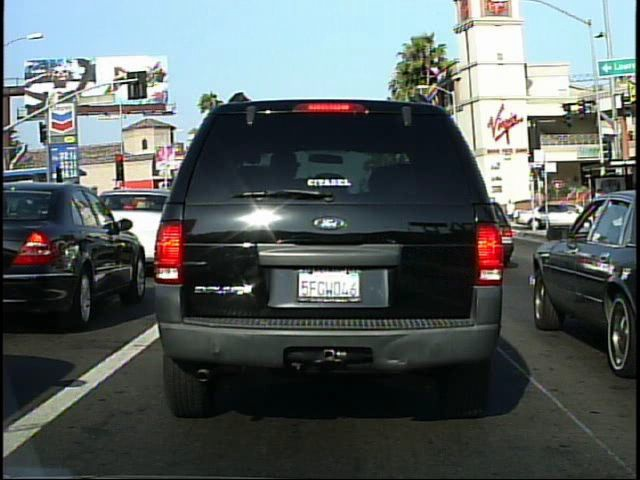person: (591, 184, 614, 246), (505, 198, 518, 224)
